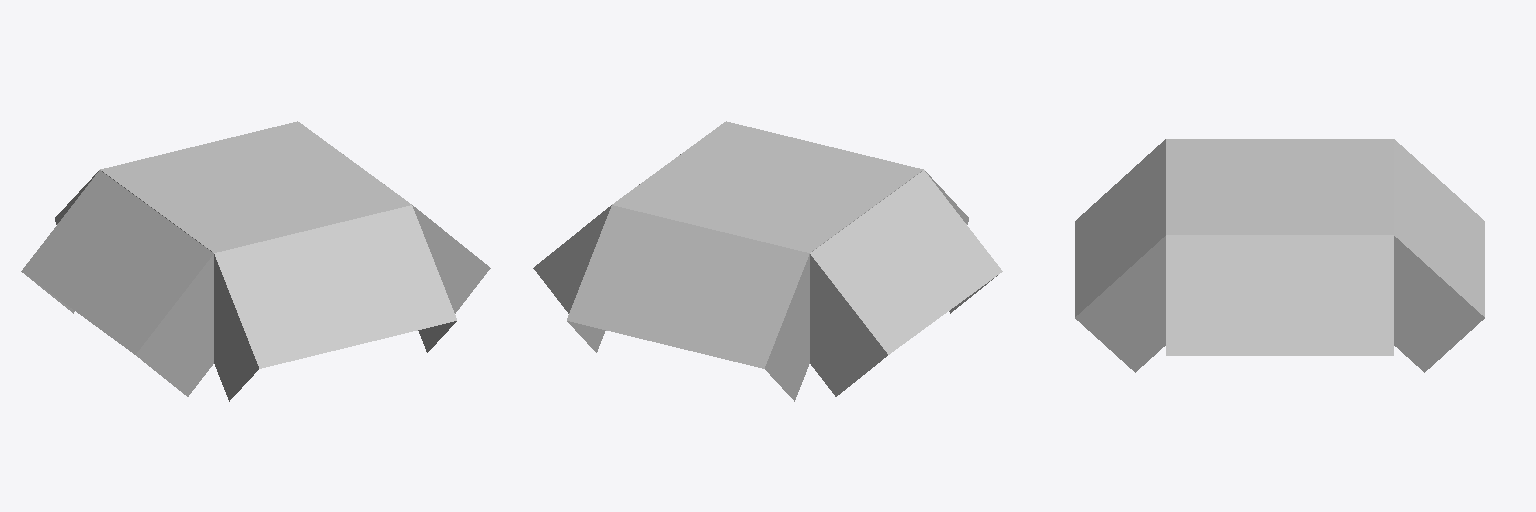
File: generator_fuel.obj
The picture shows the model from 3 angles: view 1: azimuth 30°, elevation 25°; view 2: azimuth 150°, elevation 25°; view 3: azimuth 270°, elevation 25°; orthographic projection.
Visible parts, largest first — view 1: FCS, FCW, Mid, FCE; view 2: FCN, FCW, Mid, FCE; view 3: FCE, Mid, FCS, FCN.
Boxes of the visible parts, box(x1,y1,x2,y2) form: FCS: box(214, 205, 456, 401); FCW: box(21, 170, 213, 396); Mid: box(100, 121, 411, 252); FCE: box(343, 154, 490, 313); FCN: box(567, 205, 809, 401); FCW: box(810, 170, 1002, 396); Mid: box(612, 121, 923, 252); FCE: box(533, 154, 680, 313); FCE: box(1166, 235, 1393, 355); Mid: box(1166, 139, 1393, 234); FCS: box(1075, 139, 1165, 372); FCN: box(1394, 139, 1484, 372).
Size of the model in its own units: 1.8 by 0.6651 by 1.8.